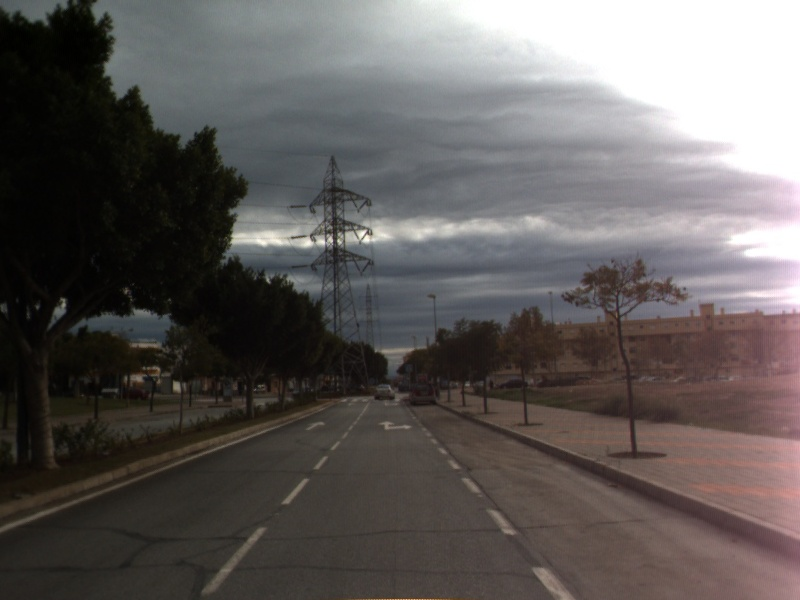STRAIGHT: (303, 419, 328, 432)
STRAIGHT_RIGHT: (376, 419, 415, 432)
